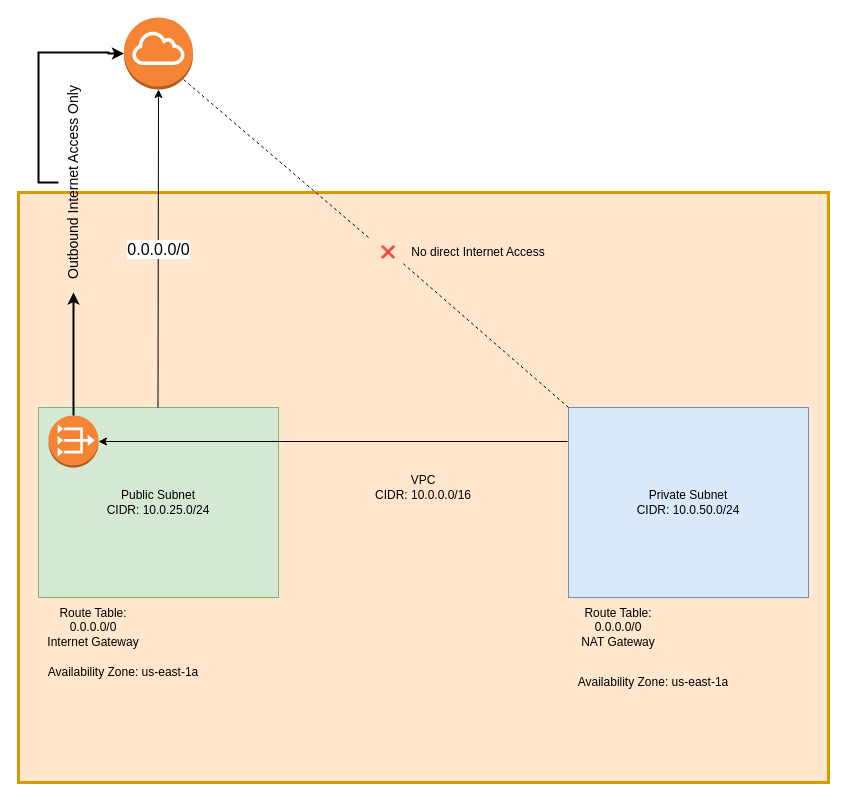
The diagram is 847 pixels wide and 801 high, and some of its shapes have lost their labels. The shapes that lost their labels are listed below. From the top down, each one's box as (x1, y1, x2, y2) in pixels, then its label:
(123, 16, 193, 90): Internet Gateway
(48, 414, 98, 468): NAT Gateway
